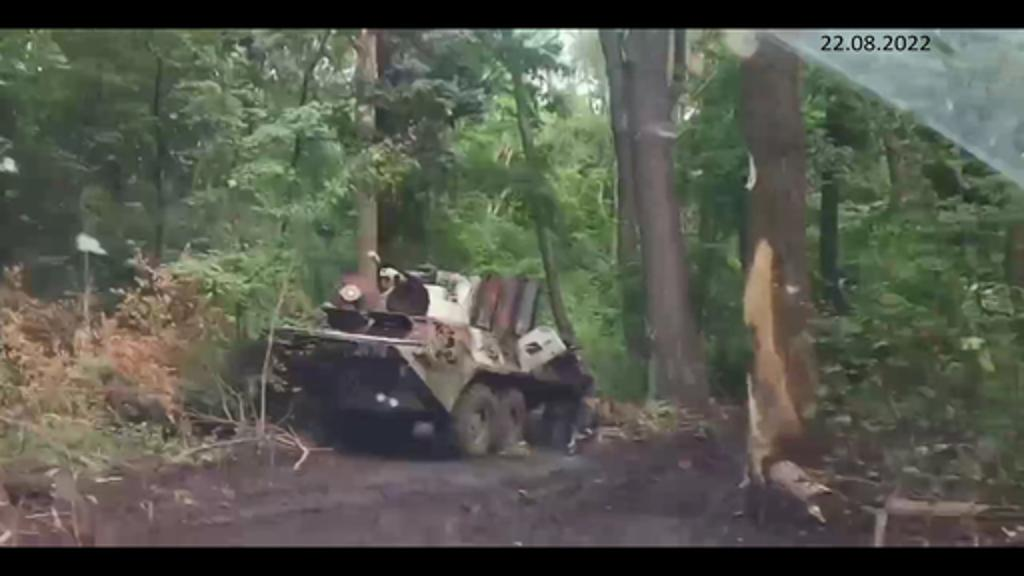APC-IFV: (238, 252, 596, 468)
